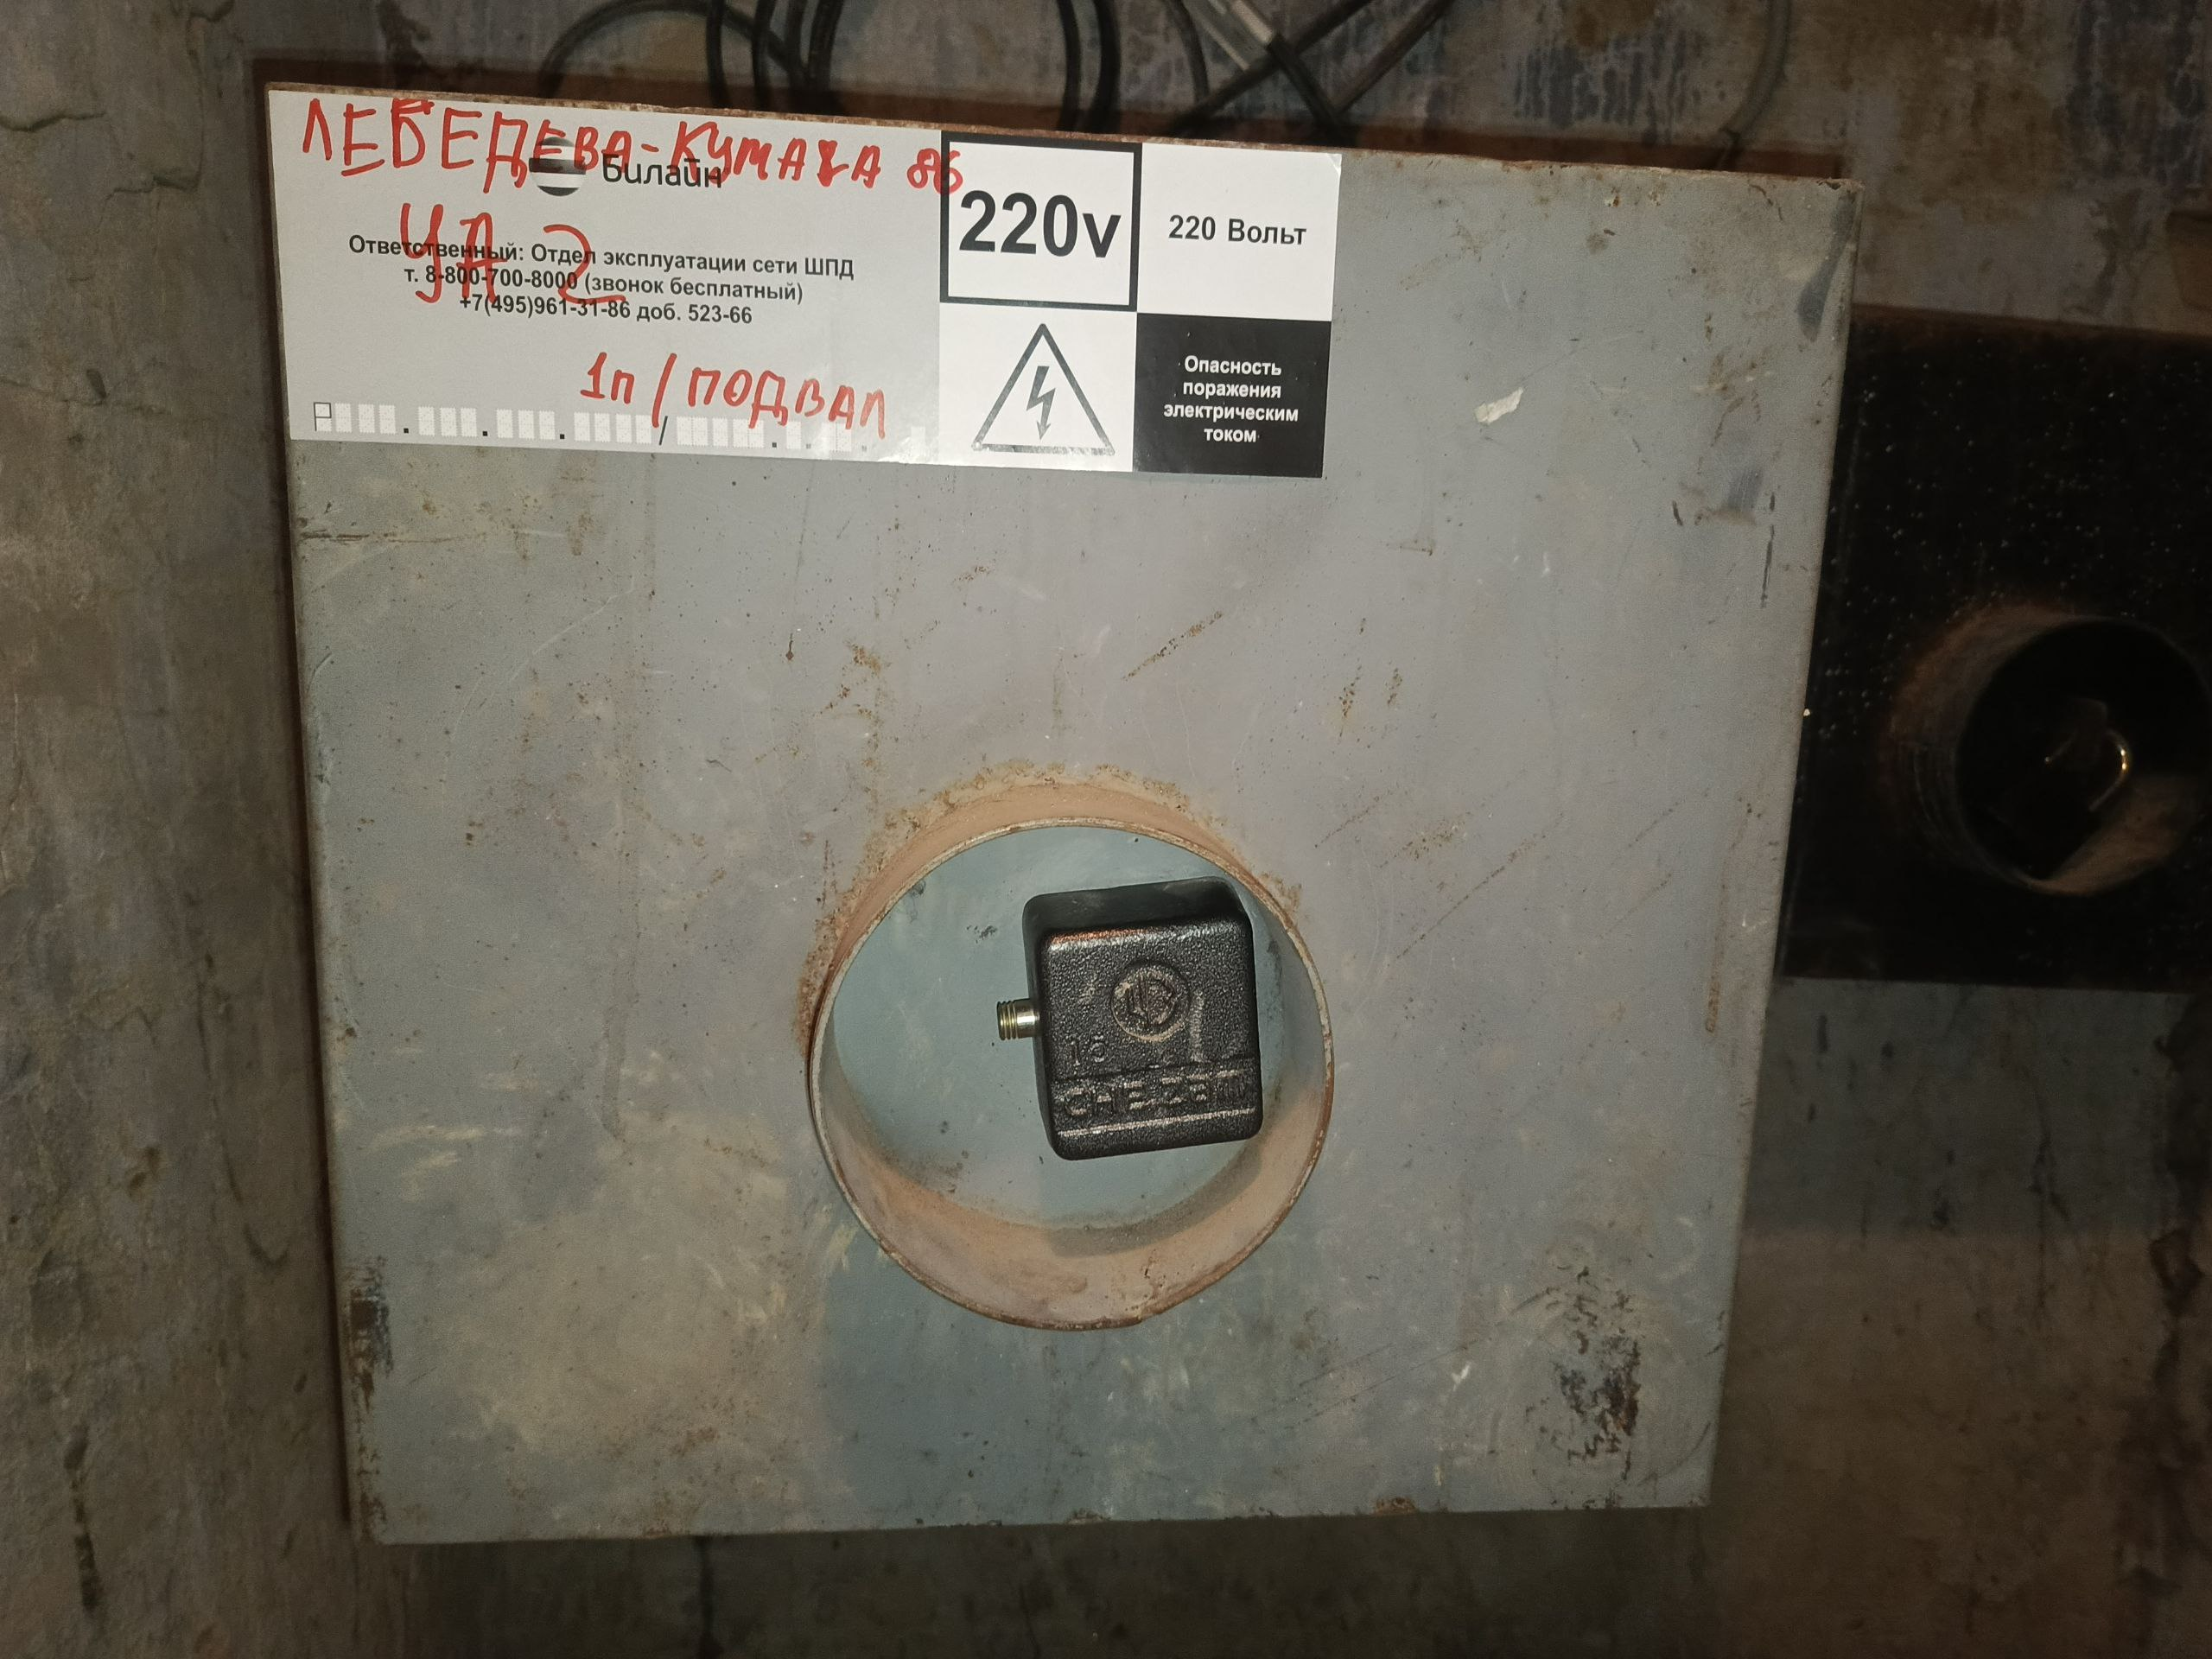shta-9: (226, 49, 1879, 1570)
